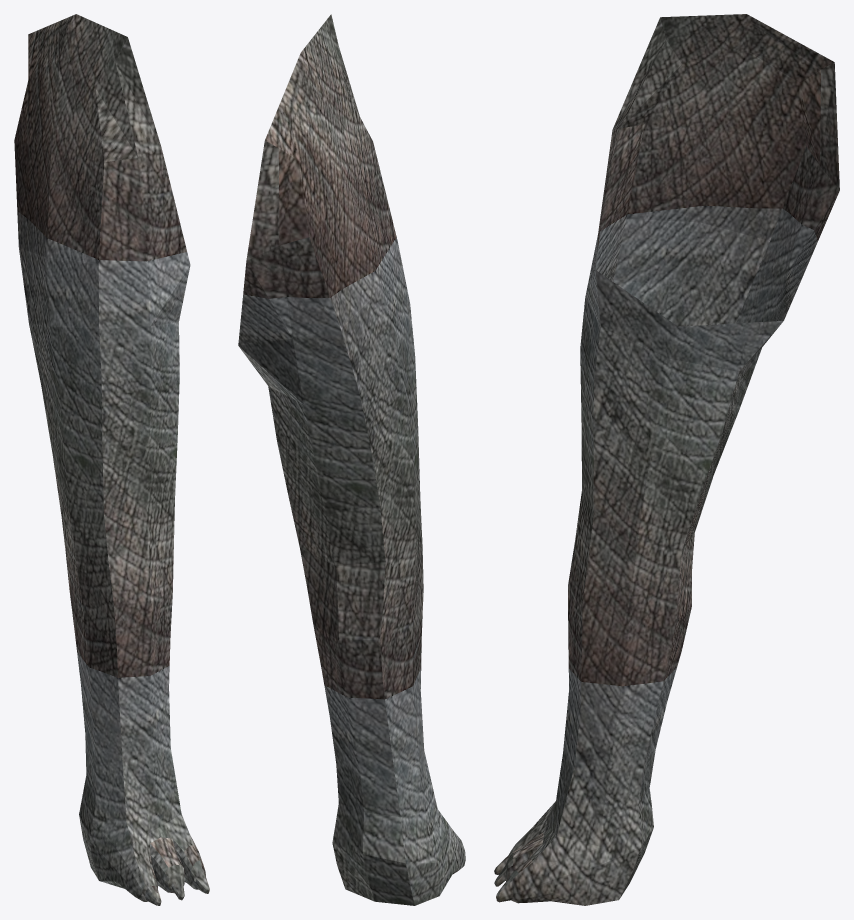
The model's file is PiernaDD_JCA.obj.
3 views of the same model, side by side, from view 1: azimuth 30°, elevation 25°; view 2: azimuth 150°, elevation 25°; view 3: azimuth 270°, elevation 25° (orthographic). The views are drawn at different scales.
Parts seen in each view (by area): view 1: PiernaDD; view 2: PiernaDD; view 3: PiernaDD.
Part boxes in pixels (x1,y1,x2,y2): PiernaDD: (14,14,209,905); PiernaDD: (238,14,465,905); PiernaDD: (494,14,839,905).
Size of the model in its own units: 0.439 by 3.05 by 1.08.
1 material, 1 textured.
